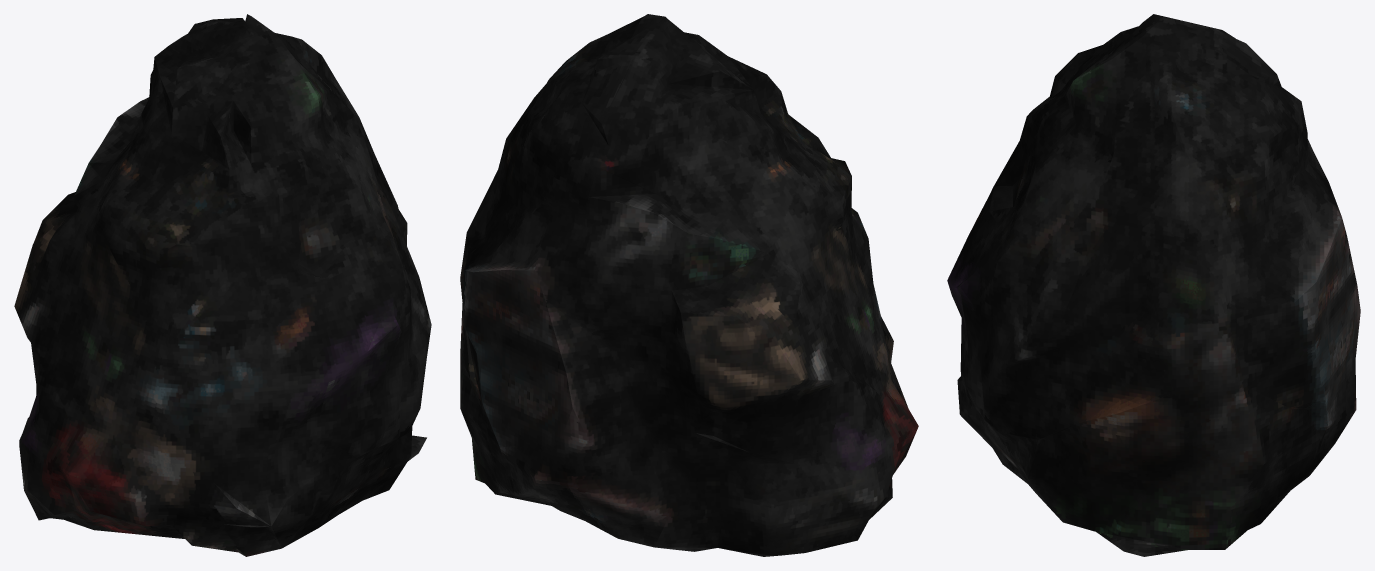
The model's file is trash_bag.glb.
3 views of the same model, side by side, from view 1: azimuth 30°, elevation 25°; view 2: azimuth 150°, elevation 25°; view 3: azimuth 270°, elevation 25° (orthographic). The views are drawn at different scales.
Parts seen in each view (by area): view 1: mesh; view 2: mesh; view 3: mesh.
Boxes of the visible parts, left/top/right/bottom form: mesh: left=14, top=14, right=431, bottom=556; mesh: left=460, top=14, right=918, bottom=556; mesh: left=947, top=14, right=1360, bottom=556.
Bounding box in the file's own units: 0.4257 × 0.48 × 0.3848.
Materials: 1 (1 with a texture image).
